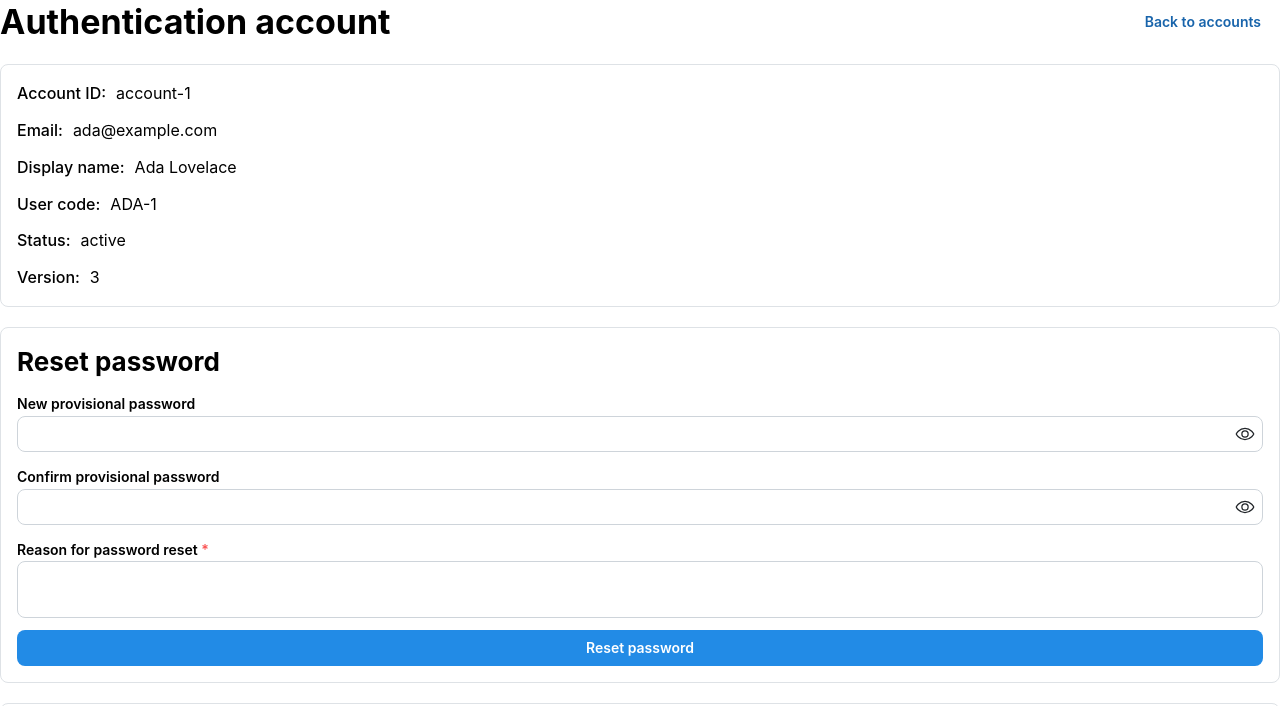
Test: AuthenticationAccountsPage › refreshes authoritative detail before reporting reset error 409
This screenshot has width=1280, height=706.
Type "temporary-secret" into the password field labelled "New provisional password". click: (640, 434)
box: [18,417,1262,451]
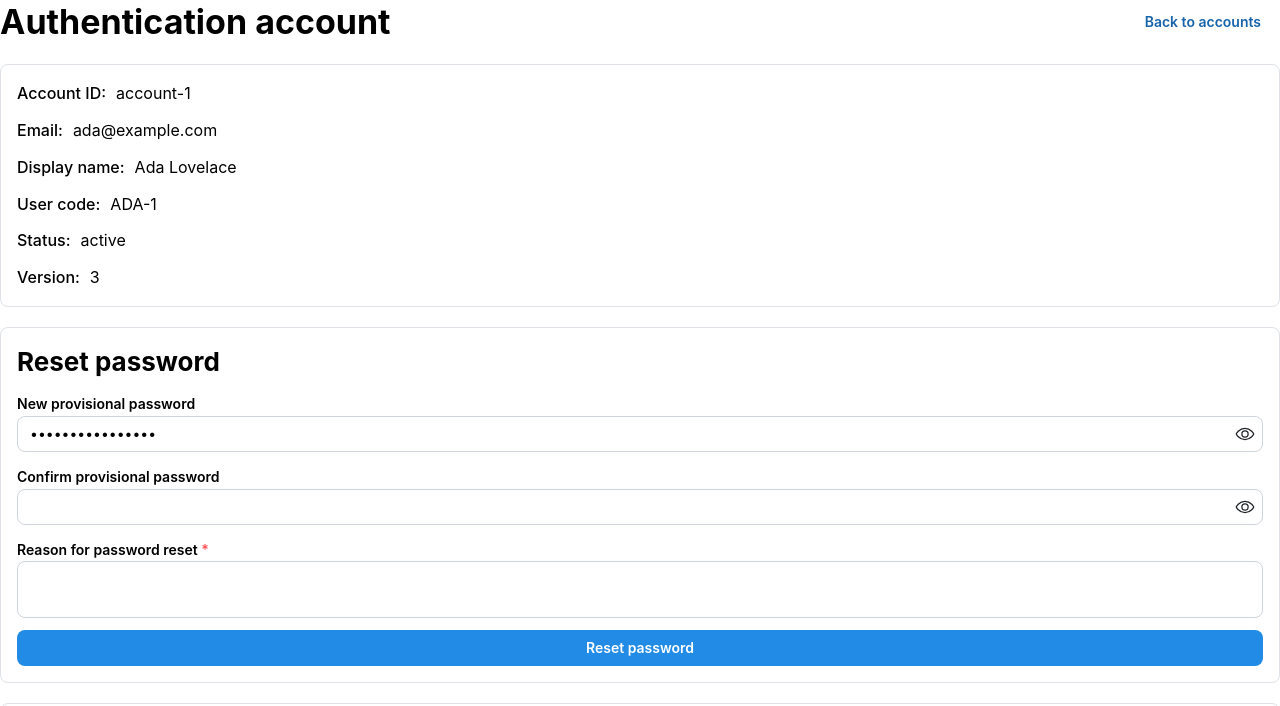
Type "temporary-secret" into the password field labelled "Confirm provisional password". click: (640, 507)
box: [18,490,1262,524]
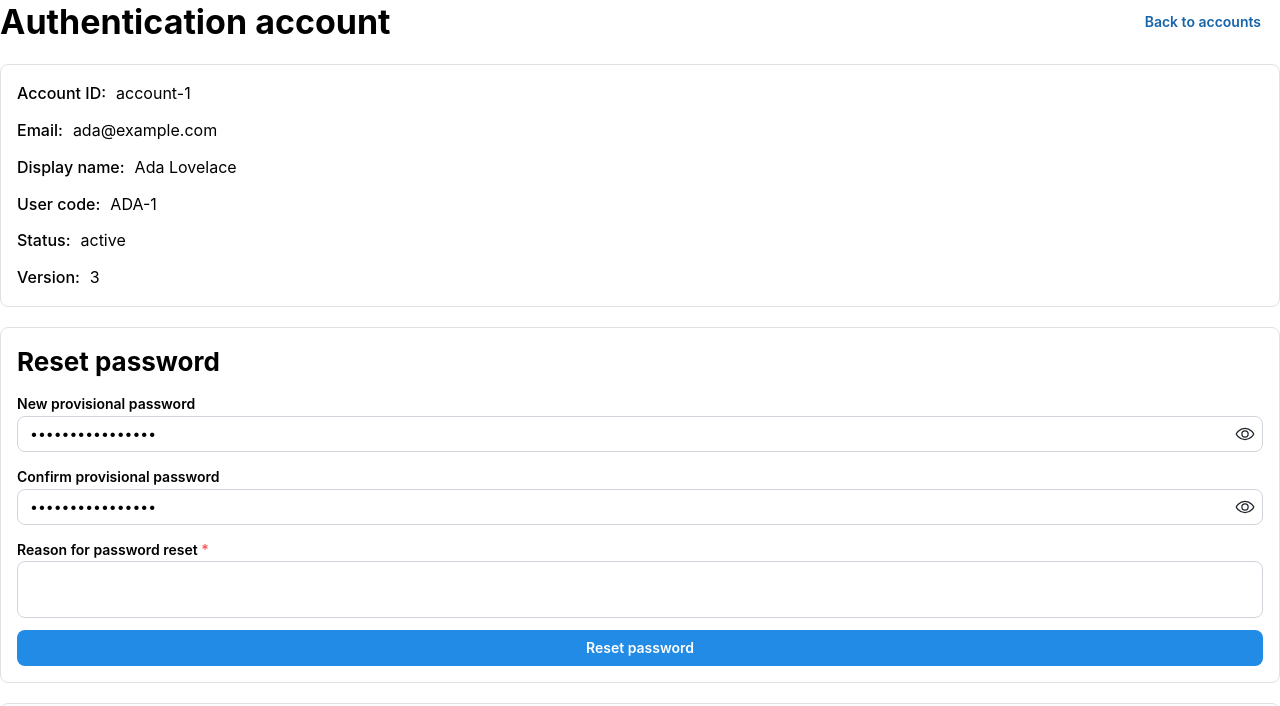
Type "Support request" into the text box labelled "Reason for password reset *". click: (640, 590)
box: [17,562,1263,618]
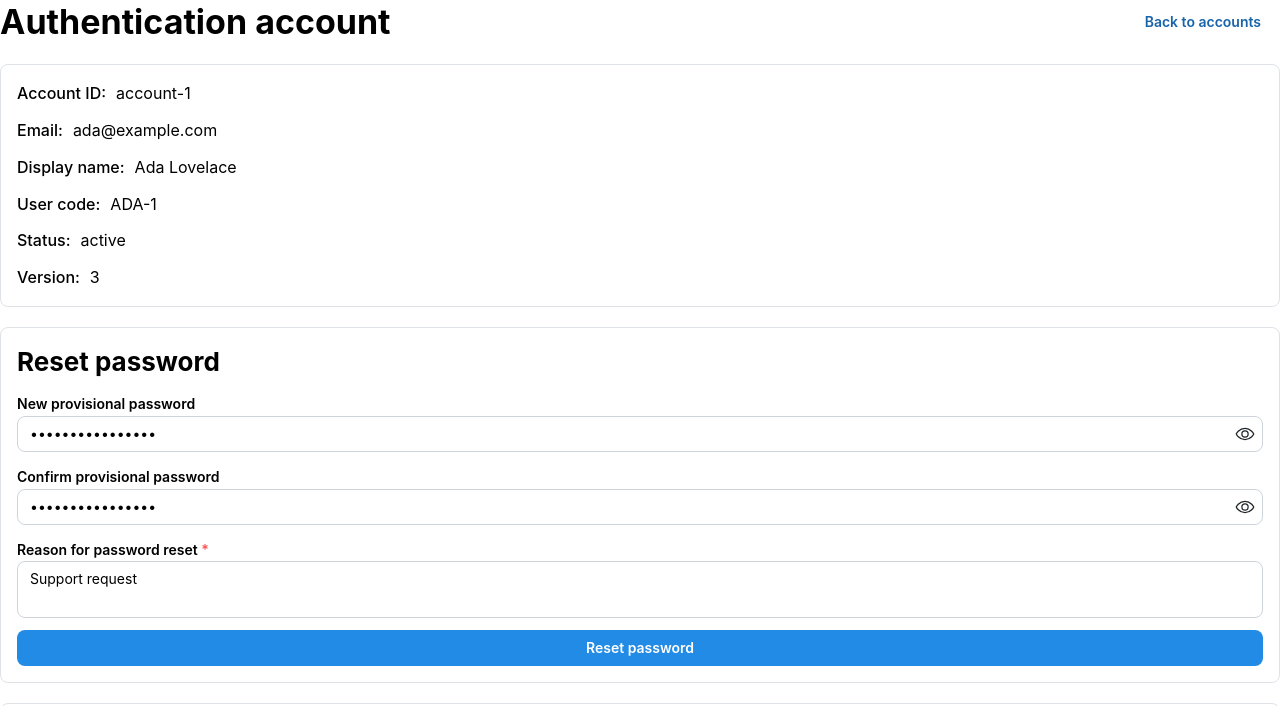
Click the button "Reset password". click: (640, 648)
box: [17,630,1263,666]
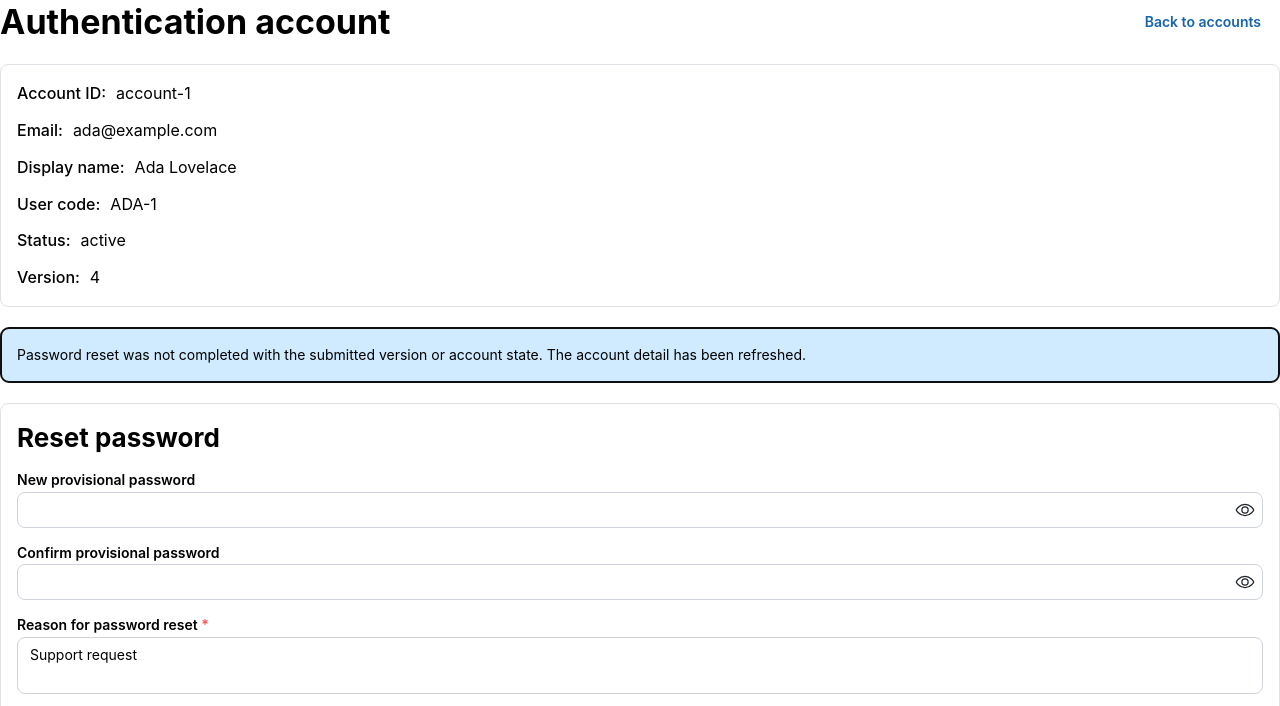
Check: the message is shown, box [0,327,1279,383]
Check: the password field labelled "New provisional password" is empty, box [18,492,1262,526]
